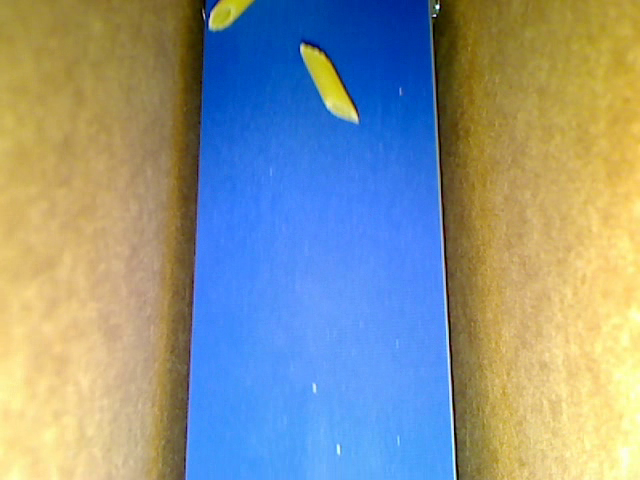penne: (300, 43, 360, 124), (207, 1, 255, 33)
